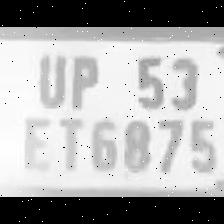3: (166, 50, 200, 110)
5: (184, 110, 218, 176), (130, 50, 166, 110)
6: (84, 112, 119, 174)
7: (151, 110, 183, 176)
8: (118, 112, 150, 174)
E: (17, 109, 56, 180)
P: (64, 50, 102, 110)
T: (51, 111, 84, 175)
U: (32, 47, 68, 109)
